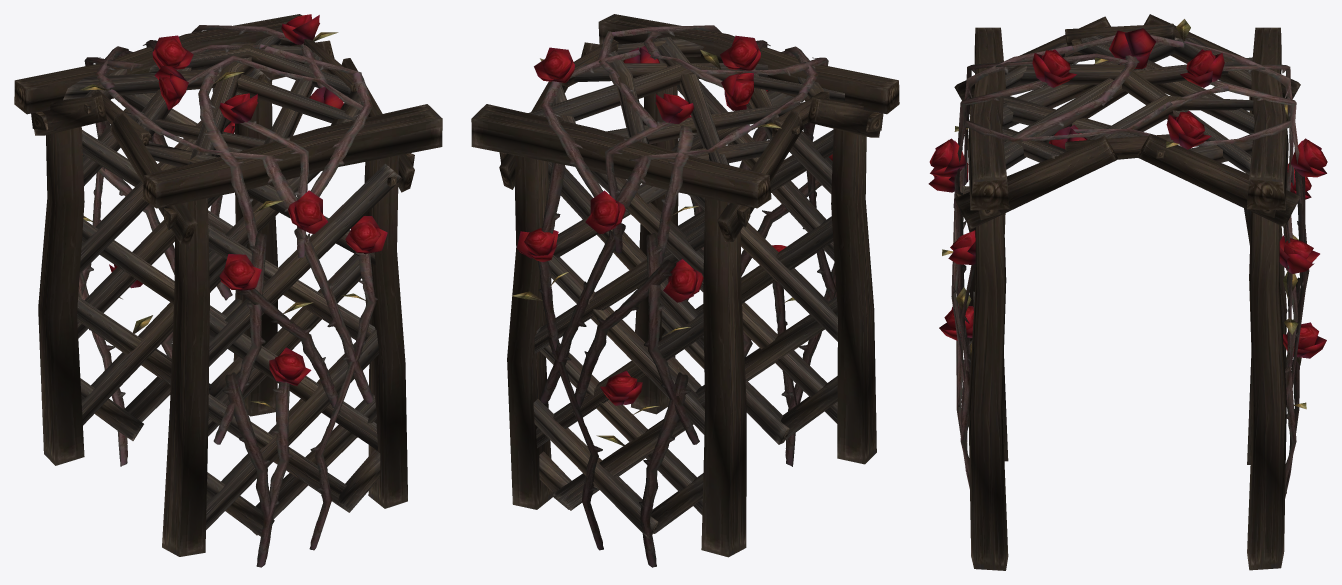
The picture shows the model from 3 angles, left to right: view 1: azimuth 30°, elevation 25°; view 2: azimuth 150°, elevation 25°; view 3: azimuth 270°, elevation 25°; orthographic projection. The views are drawn at different scales.
Size of the model in its own units: 3.45 by 5.23 by 3.85.
4 materials, 4 textured.
